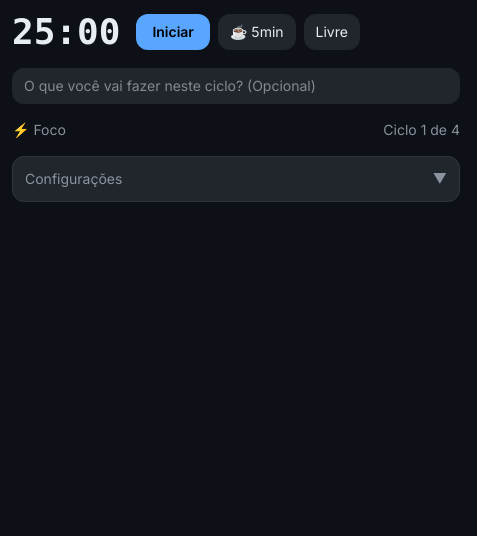
it: PomodoroTimer › config panel collapse toggle
Expected: the text "Foco (min)" is not shown
Click the text "Configurações" at (74, 179), box [25,169,122,189]
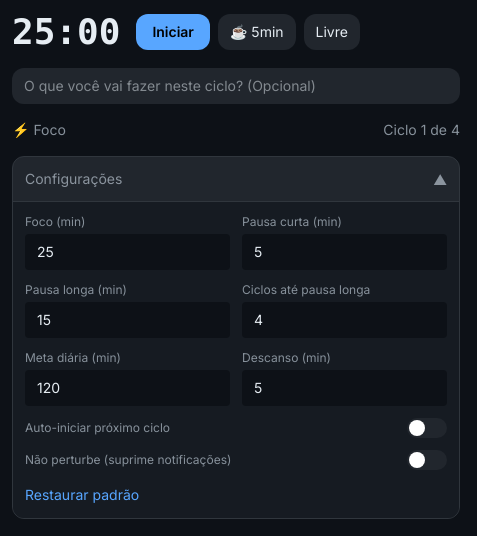
Now the text "Foco (min)" is shown, box [25,214,86,229]
